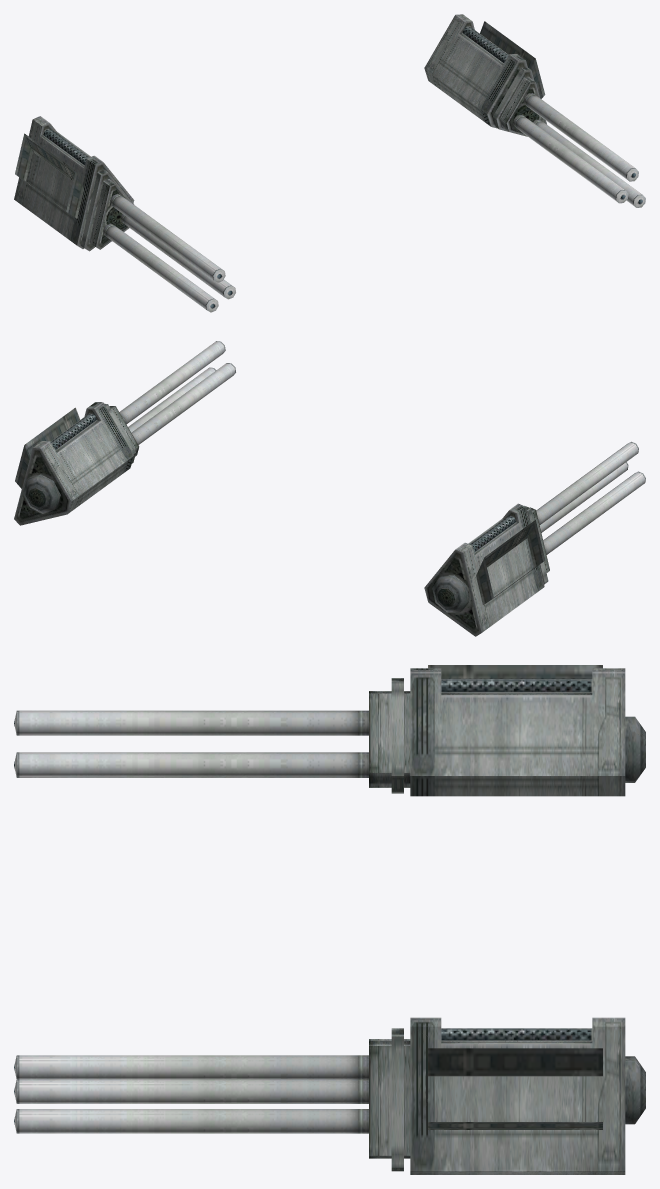
The model's file is black_sun_fighter_heavy_weapon2_s04_l0.fbx.
3 views of the same model, one above another, from view 1: azimuth 30°, elevation 25°; view 2: azimuth 150°, elevation 25°; view 3: azimuth 270°, elevation 25° (orthographic). The views are drawn at different scales.
Parts seen in each view (by area): view 1: mesh_node; view 2: mesh_node; view 3: mesh_node.
Part boxes in pixels (<box>): mesh_node: <box>14,14,645,312</box>; mesh_node: <box>14,341,645,636</box>; mesh_node: <box>14,665,645,1174</box>.
Bounding box in the file's own units: 5.27 × 0.8651 × 3.53.
